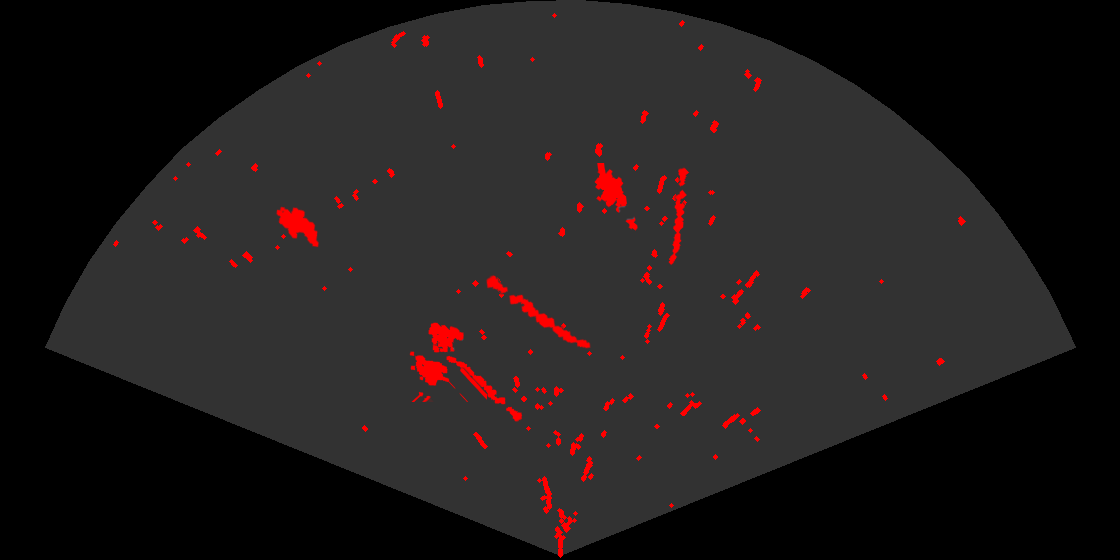AUV: (274, 205, 321, 249)
cage: (408, 321, 487, 402)
chain: (485, 274, 592, 350), (445, 354, 524, 423), (667, 165, 691, 267)
frogman: (593, 163, 639, 232)
